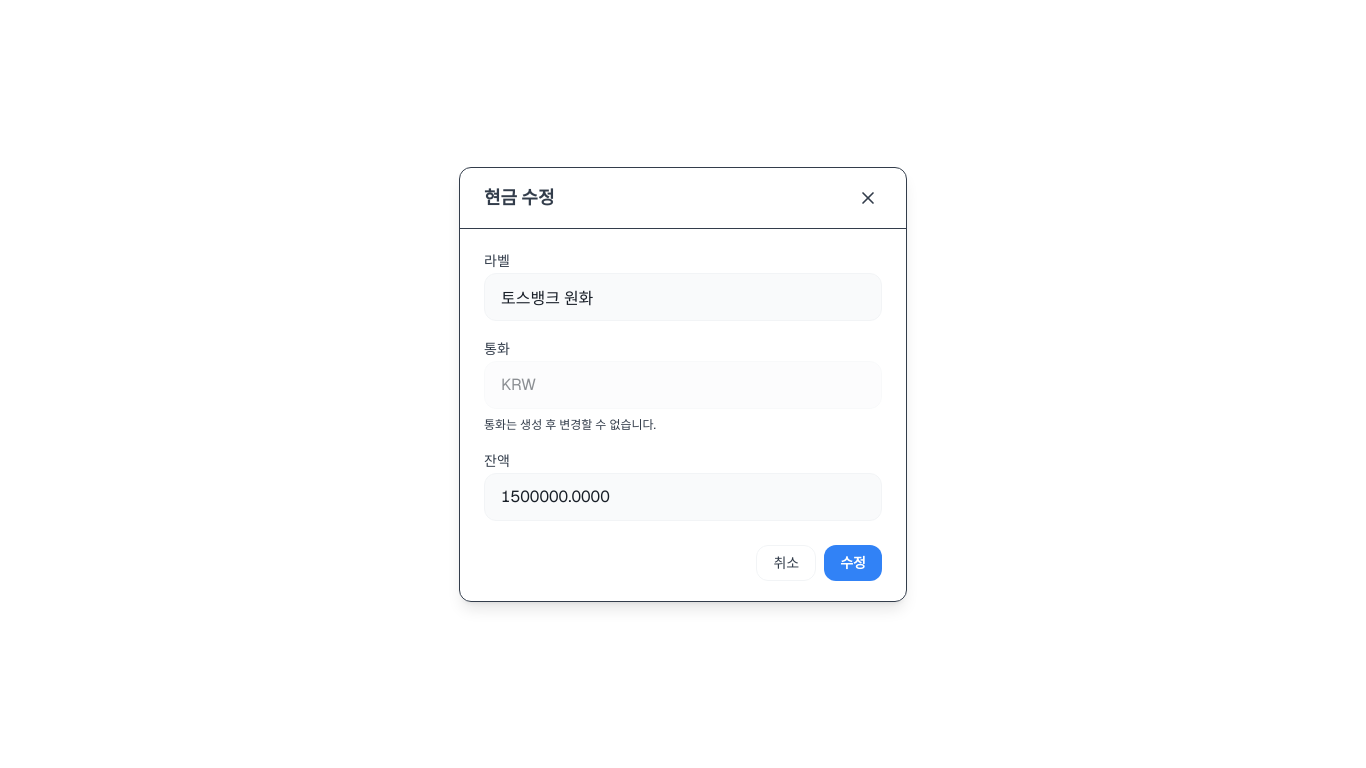
Test: CashAccountEditDialog › 폼 검증 › 라벨과 잔액 모두 비우면 에러가 표시된다 (빈 라벨 에러)
The image size is (1366, 768).
Clear the field named "계좌 라벨" at [683, 296], box x1=484 y1=272 x2=882 y2=320
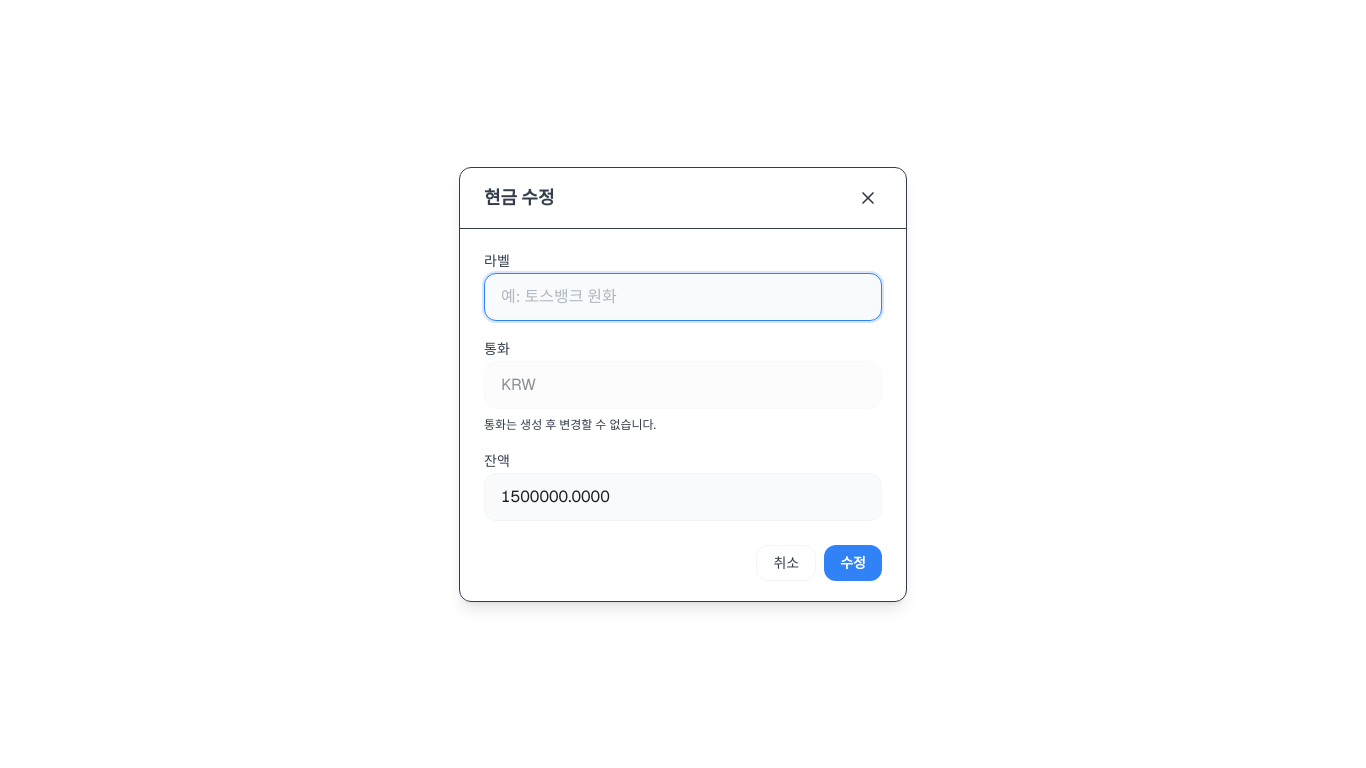
Clear the field named "계좌 잔액" at [683, 496], box x1=484 y1=472 x2=882 y2=520
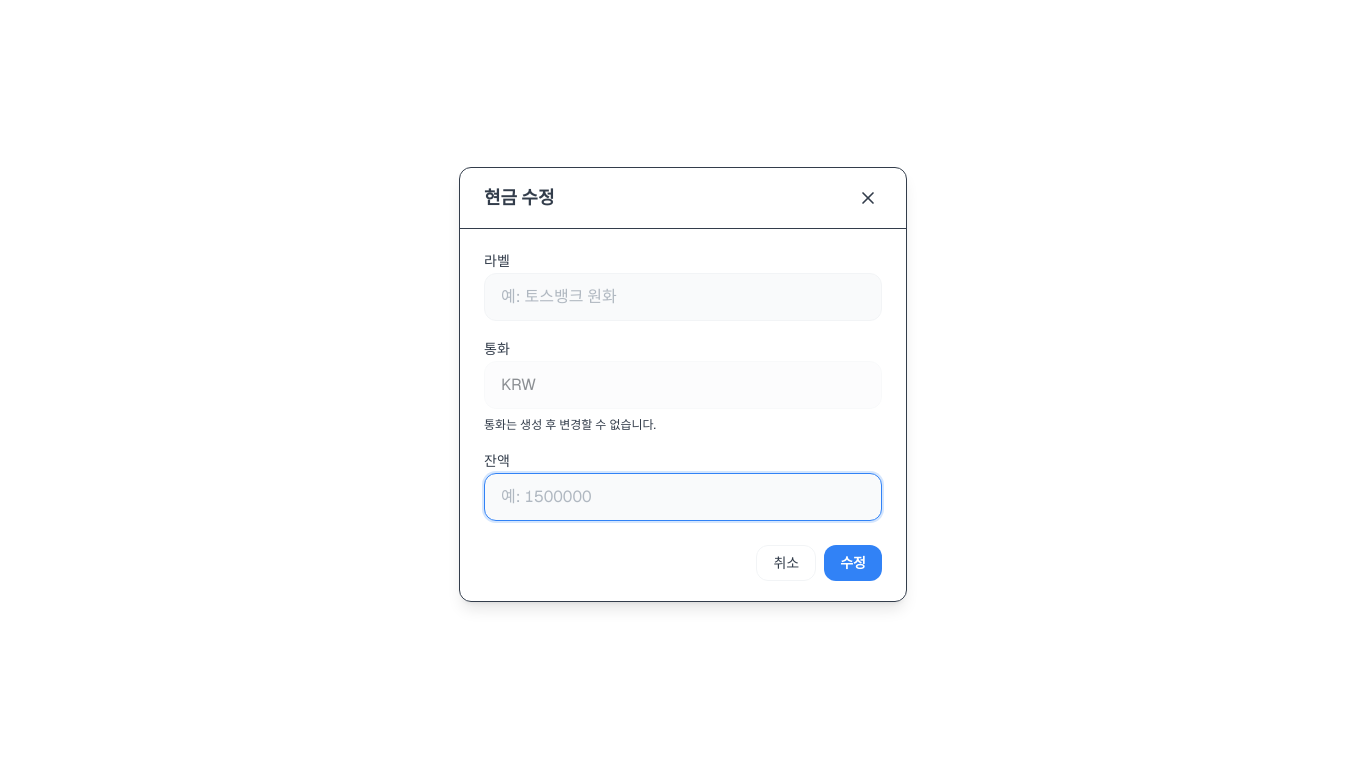
Click the button "수정".
click(853, 562)  # box x1=824 y1=544 x2=882 y2=580
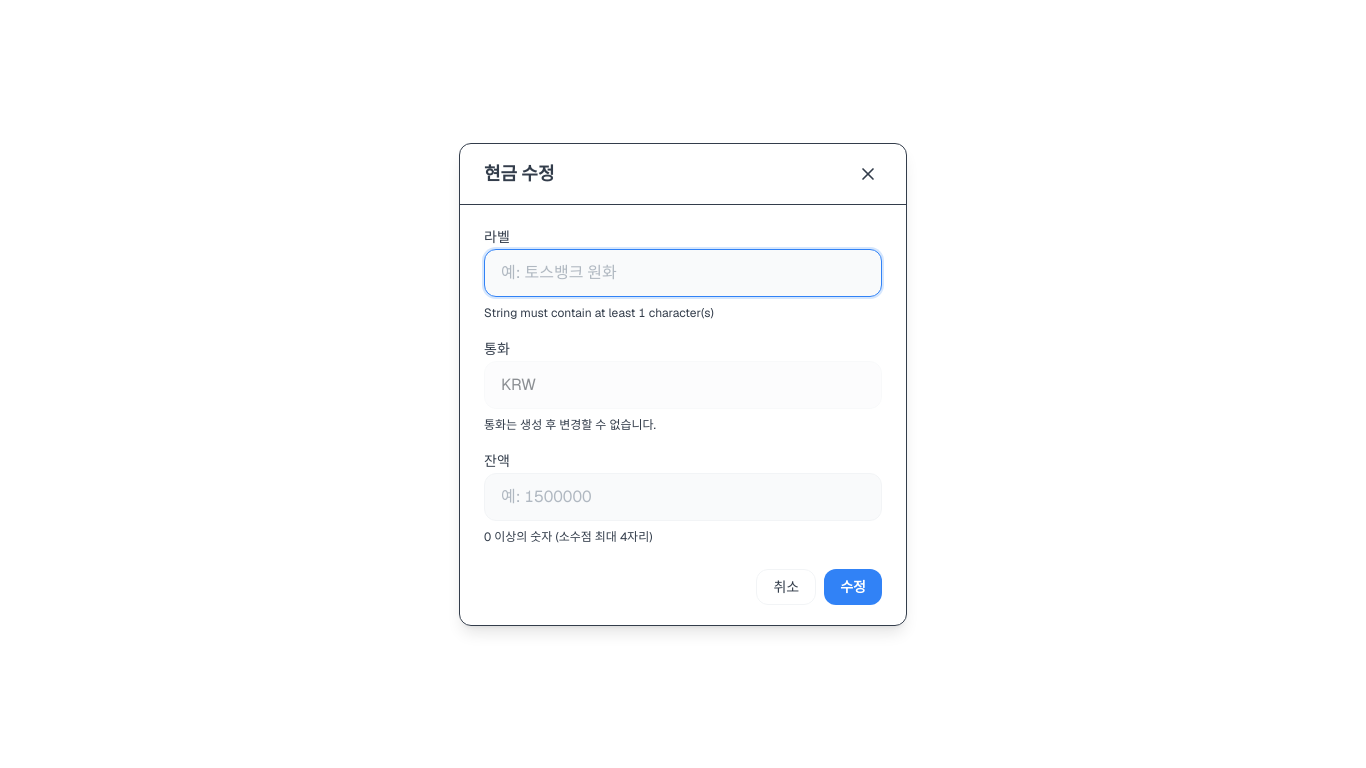
Result: the 1st message is shown at x1=484 y1=304 x2=714 y2=320
